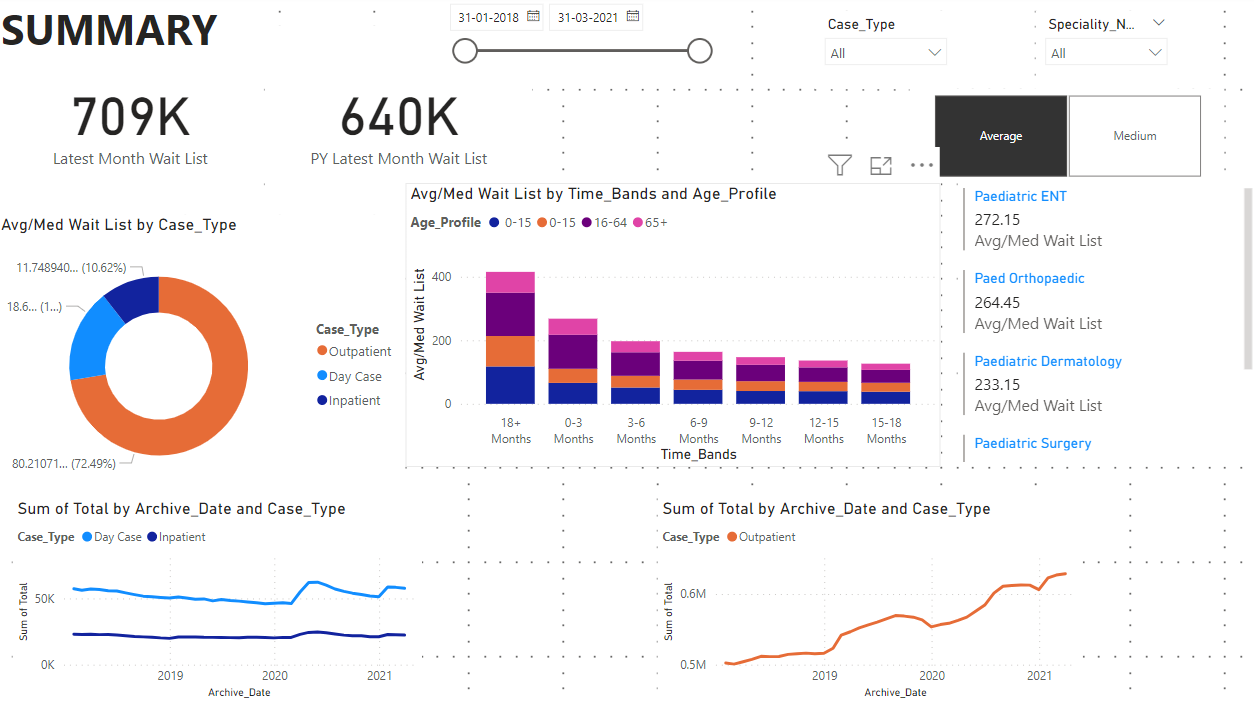

Layout of this report page (visuals, bound fields, positions):
{"tool":"powerbi","page":{"name":"Summary","canvas":[1280,720],"ordinal":0},"visuals":[{"type":"card","fields":{"Values":["All_Data.Latest Month Wait List"]},"box":[0,32,272,192],"z":0},{"type":"card","fields":{"Values":["All_Data.PY Latest Month Wait List"]},"box":[272,32,272,192],"z":1000},{"type":"slicer","fields":{"Values":["Calculation Method.Calc method"]},"box":[928,96,320,96],"z":1001},{"type":"donutChart","fields":{"Category":["All_Data.Case_Type"],"Y":["All_Data.Avg/Med Wait List"]},"box":[0,224,416,288],"z":1002},{"type":"columnChart","fields":{"Series":["All_Data.Age_Profile"],"Y":["All_Data.Avg/Med Wait List"],"Category":["All_Data.Time_Bands"]},"box":[416,192,544,288],"z":1003},{"type":"multiRowCard","fields":{"Values":["All_Data.Avg/Med Wait List","All_Data.Speciality_Name"]},"box":[976,192,304,288],"z":1004},{"type":"lineChart","fields":{"Category":["All_Data.Archive_Date"],"Y":["Sum(All_Data.Total)"],"Series":["All_Data.Case_Type"]},"box":[16,512,416,208],"z":1005},{"type":"lineChart","fields":{"Category":["All_Data.Archive_Date"],"Y":["Sum(All_Data.Total)"],"Series":["All_Data.Case_Type"]},"box":[672,512,432,208],"z":1006},{"type":"slicer","fields":{"Values":["All_Data.Archive_Date"]},"box":[448,0,288,96],"z":1007},{"type":"slicer","fields":{"Values":["All_Data.Case_Type"]},"box":[832,16,144,80],"z":1008},{"type":"slicer","fields":{"Values":["All_Data.Speciality_Name"]},"box":[1056,16,144,80],"z":1009},{"type":"textbox","box":[0,0,272,80],"z":1010}]}

Visuals, with their boxes in screenshot pixels (x1, y1, x2, y2), scaled from the page's 1280x720 canvas onto the 1254x702 screenshot:
card - All_Data.Latest Month Wait List: locate(0, 31, 266, 218)
card - All_Data.PY Latest Month Wait List: locate(266, 31, 533, 218)
slicer - Calculation Method.Calc method: locate(909, 94, 1223, 187)
donutChart - All_Data.Case_Type x All_Data.Avg/Med Wait List: locate(0, 218, 408, 499)
columnChart - All_Data.Age_Profile x All_Data.Avg/Med Wait List: locate(408, 187, 940, 468)
multiRowCard - All_Data.Avg/Med Wait List x All_Data.Speciality_Name: locate(956, 187, 1253, 468)
lineChart - All_Data.Archive_Date x Sum(All_Data.Total): locate(16, 499, 423, 701)
lineChart - All_Data.Archive_Date x Sum(All_Data.Total): locate(658, 499, 1082, 701)
slicer - All_Data.Archive_Date: locate(439, 0, 721, 94)
slicer - All_Data.Case_Type: locate(815, 16, 956, 94)
slicer - All_Data.Speciality_Name: locate(1035, 16, 1176, 94)
textbox: locate(0, 0, 266, 78)
